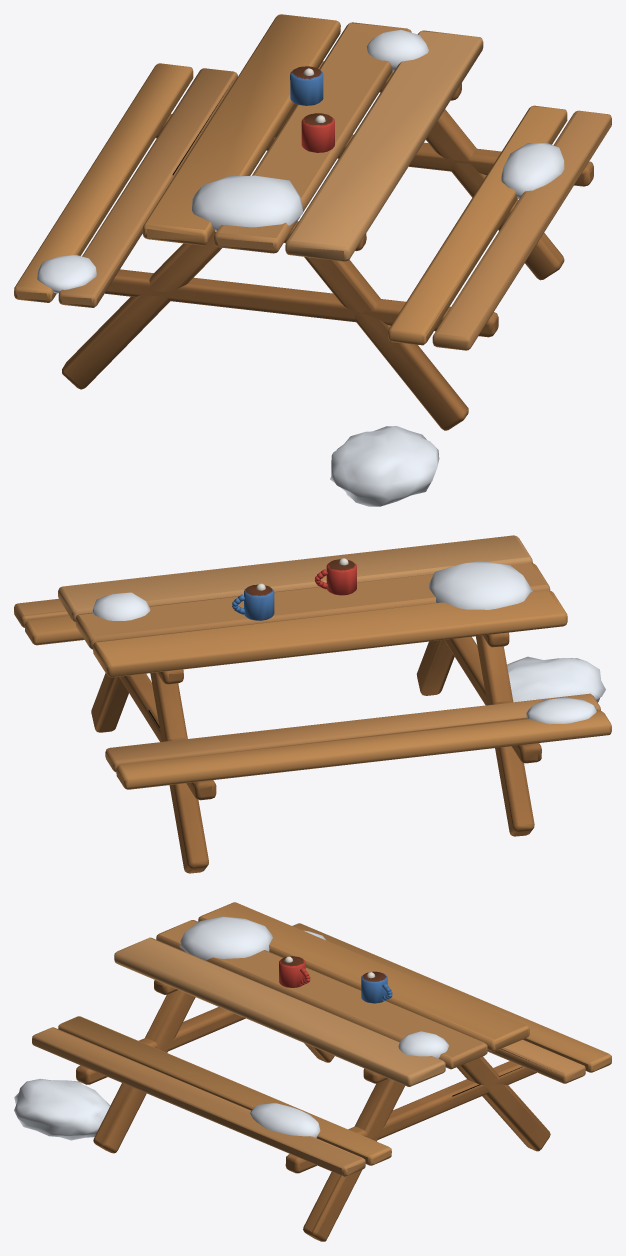
File: picnic_table.glb
3 views of the same model, one above another, from view 1: azimuth 30°, elevation 25°; view 2: azimuth 150°, elevation 25°; view 3: azimuth 270°, elevation 25° (orthographic). The views are drawn at different scales.
Parts seen in each view (by area): view 1: bcap; view 2: bcap; view 3: bcap.
Part boxes in pixels (<box>): bcap: <box>14,14,611,506</box>; bcap: <box>14,535,611,873</box>; bcap: <box>14,902,611,1241</box>.
Bounding box in the file's own units: 2.35 × 0.9197 × 2.42.
Materials: 1 (1 with a texture image).
